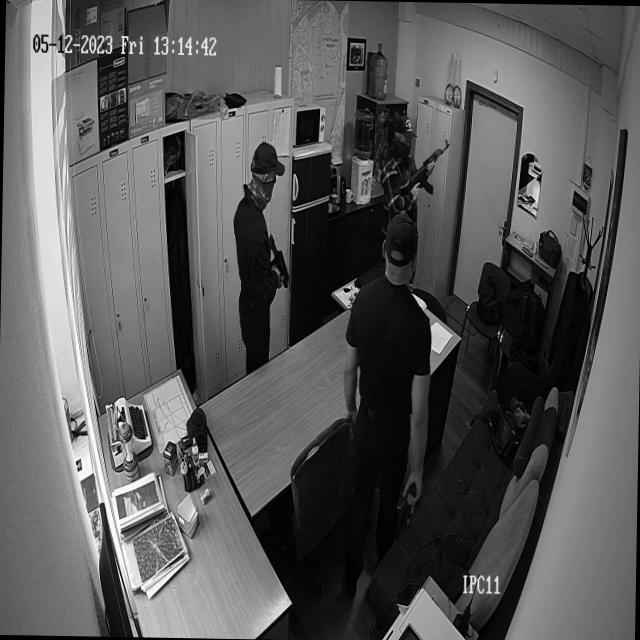gun: (411, 138, 451, 192), (266, 230, 292, 289)
person: (343, 213, 429, 512)
person with a gun: (371, 83, 461, 326), (228, 115, 298, 391)
